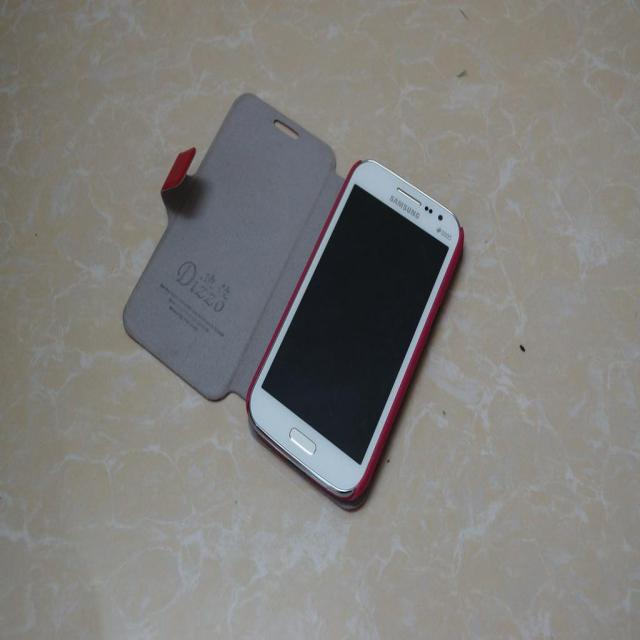Phone: (246, 155, 464, 506)
